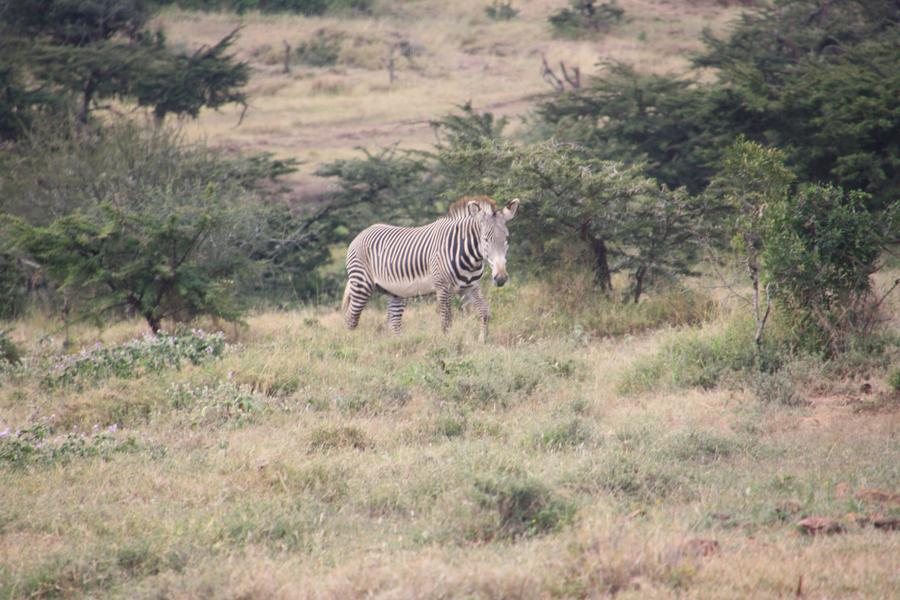zebra_grevys: (343, 206, 467, 283)
